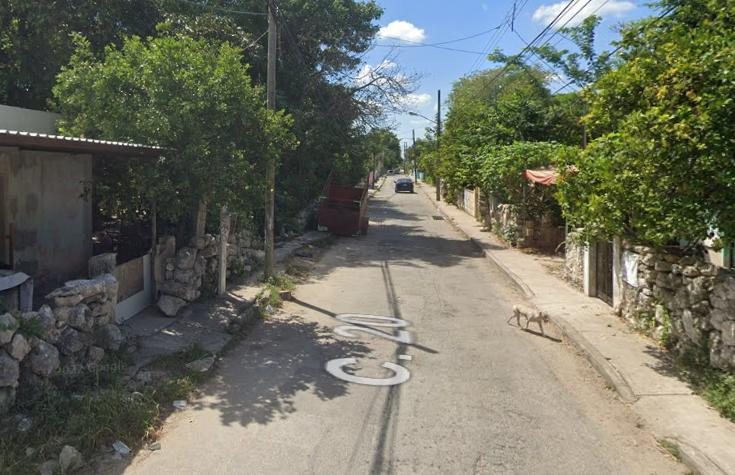normal_dogs: (498, 286, 563, 354)
